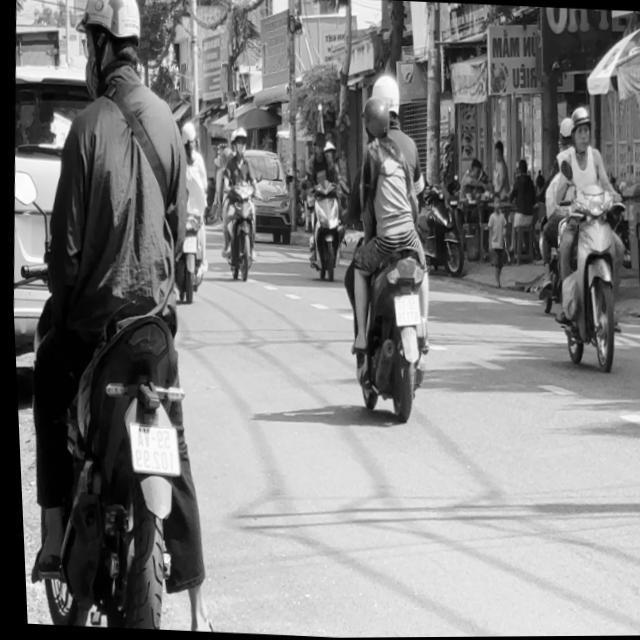helmet: (78, 0, 148, 90), (360, 95, 393, 145), (371, 72, 402, 115), (568, 105, 594, 154), (557, 114, 574, 149), (179, 119, 198, 150)
licenseplate: (0, 0, 236, 633), (327, 66, 448, 425), (533, 102, 639, 374)
nohelmet: (126, 424, 178, 474), (390, 294, 420, 328)
